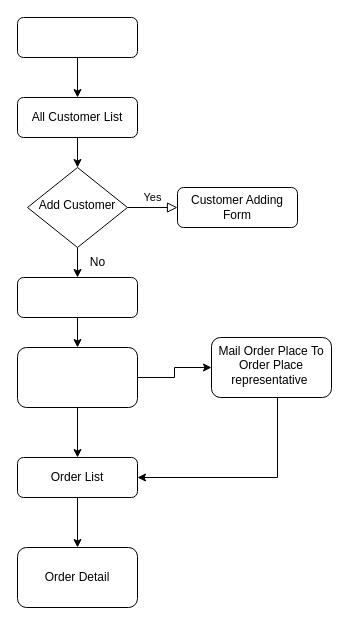
This 349x625 diagram has some shape labels left out. The box of each missing label's shape, as (x1, y1, x2, y2) in pixels:
Order Place Form: (16, 346, 138, 408)
Select Customer: (16, 276, 138, 318)
XYZ Company Sales Team: (16, 16, 138, 58)
